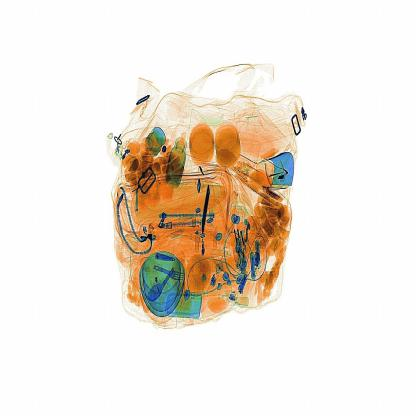wrench: (200, 179, 216, 241)
